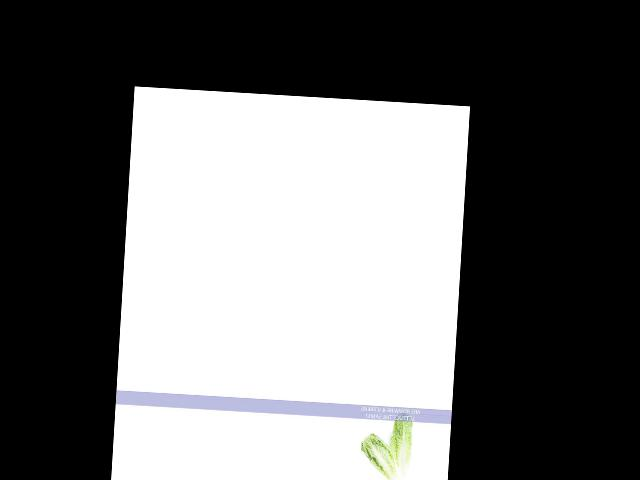lettuce: (359, 428, 410, 480)
